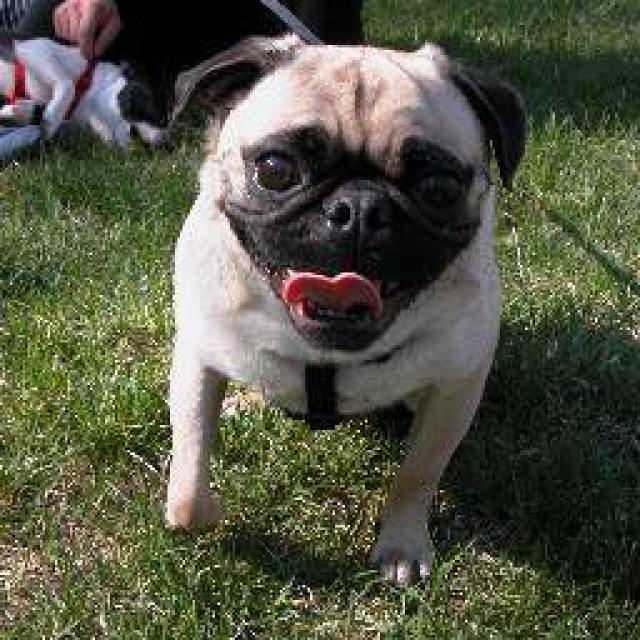dog-pug: (155, 25, 535, 588)
